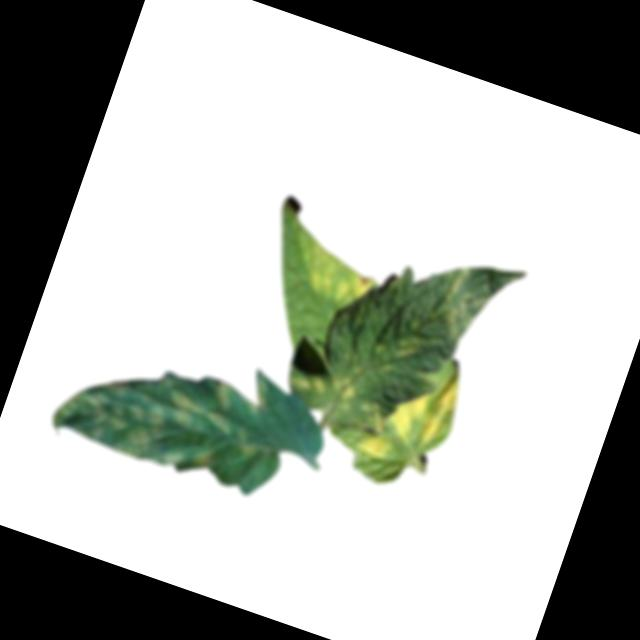Leaf_Mold: (48, 336, 278, 495), (353, 356, 470, 480), (280, 223, 389, 313), (427, 259, 498, 344), (288, 360, 359, 410)
